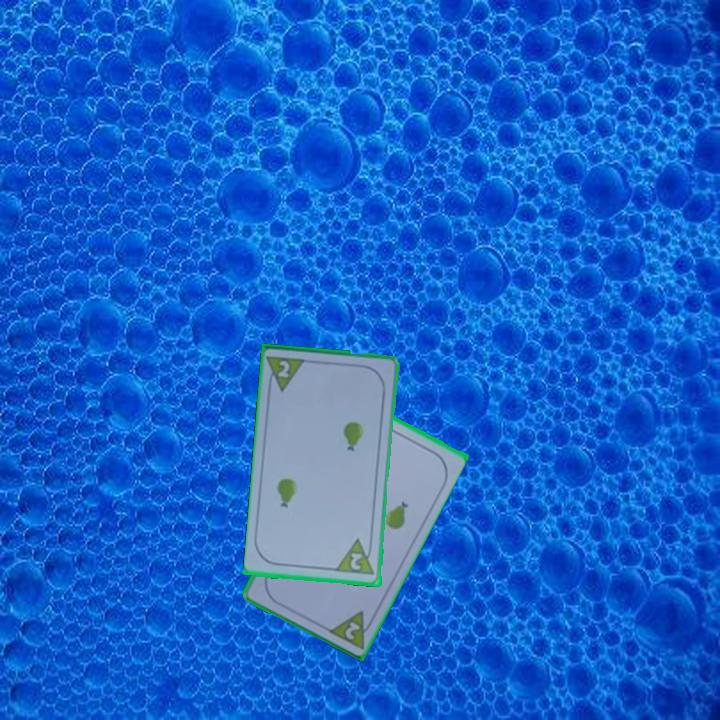2p: (265, 353, 310, 395), (341, 617, 363, 642), (347, 549, 365, 573)
